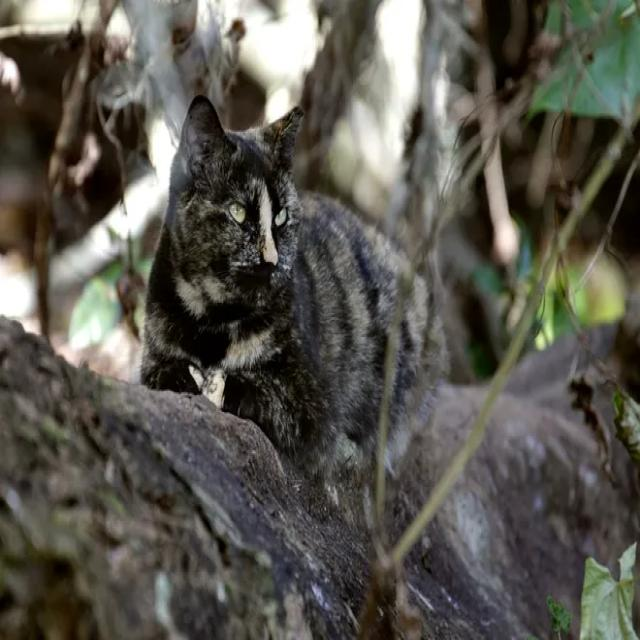cat: (141, 99, 405, 475), (390, 277, 426, 455)
